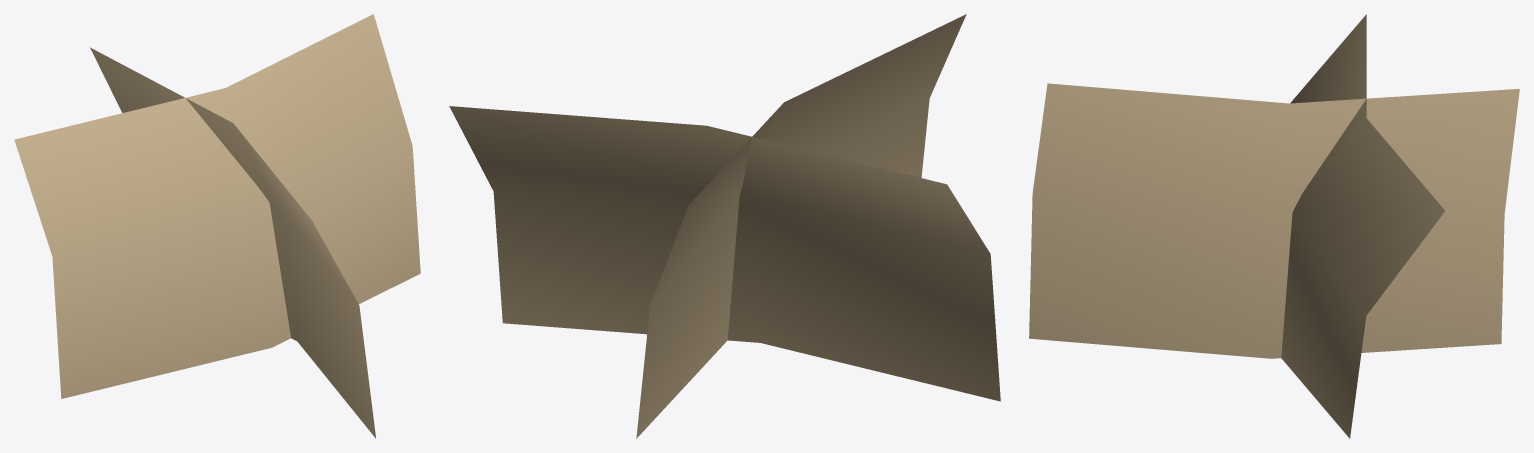
File: GrassPlanes_b_TwoS_04.fbx
3 views of the same model, side by side, from view 1: azimuth 30°, elevation 25°; view 2: azimuth 150°, elevation 25°; view 3: azimuth 270°, elevation 25° (orthographic). The views are drawn at different scales.
Visible parts, largest first — view 1: GrassPlanes_b_TwoS_04; view 2: GrassPlanes_b_TwoS_04; view 3: GrassPlanes_b_TwoS_04.
Part boxes in pixels (left/top/right/bottom): GrassPlanes_b_TwoS_04: left=14, top=14, right=420, bottom=438; GrassPlanes_b_TwoS_04: left=449, top=14, right=1000, bottom=438; GrassPlanes_b_TwoS_04: left=1029, top=14, right=1519, bottom=438.
Size of the model in its own units: 114 by 61.69 by 120.
